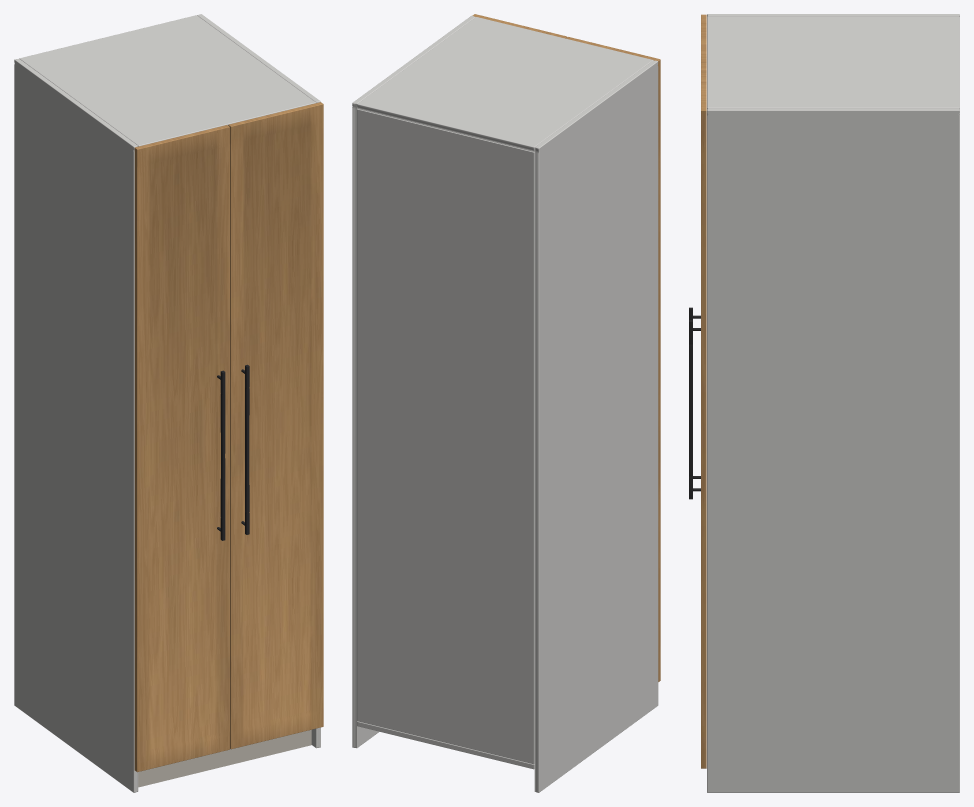
Rendered from wardrobe_2.glb.
The picture shows the model from 3 angles, left to right: view 1: azimuth 30°, elevation 25°; view 2: azimuth 150°, elevation 25°; view 3: azimuth 270°, elevation 25°; orthographic projection. The views are drawn at different scales.
Parts seen in each view (by area): view 1: wardrobe_2_carcass, wardrobe_2_door_l, wardrobe_2_door_r, wardrobe_2_plinth, wardrobe_2_handle_l, wardrobe_2_handle_r; view 2: wardrobe_2_carcass, wardrobe_2_door_l; view 3: wardrobe_2_carcass, wardrobe_2_door_r, wardrobe_2_handle_r.
Boxes of the visible parts, x1,y1,x2,y2 form: wardrobe_2_carcass: (14, 14, 320, 792); wardrobe_2_door_l: (134, 125, 229, 772); wardrobe_2_door_r: (228, 102, 323, 749); wardrobe_2_plinth: (138, 730, 311, 787); wardrobe_2_handle_l: (217, 370, 225, 540); wardrobe_2_handle_r: (241, 364, 249, 534); wardrobe_2_carcass: (352, 15, 658, 792); wardrobe_2_door_l: (566, 37, 660, 681); wardrobe_2_carcass: (707, 14, 959, 792); wardrobe_2_door_r: (701, 63, 706, 768); wardrobe_2_handle_r: (689, 320, 700, 499).
Bounding box in the file's own units: 0.698 × 2.3 × 0.827.
Materials: 4 (1 with a texture image).
